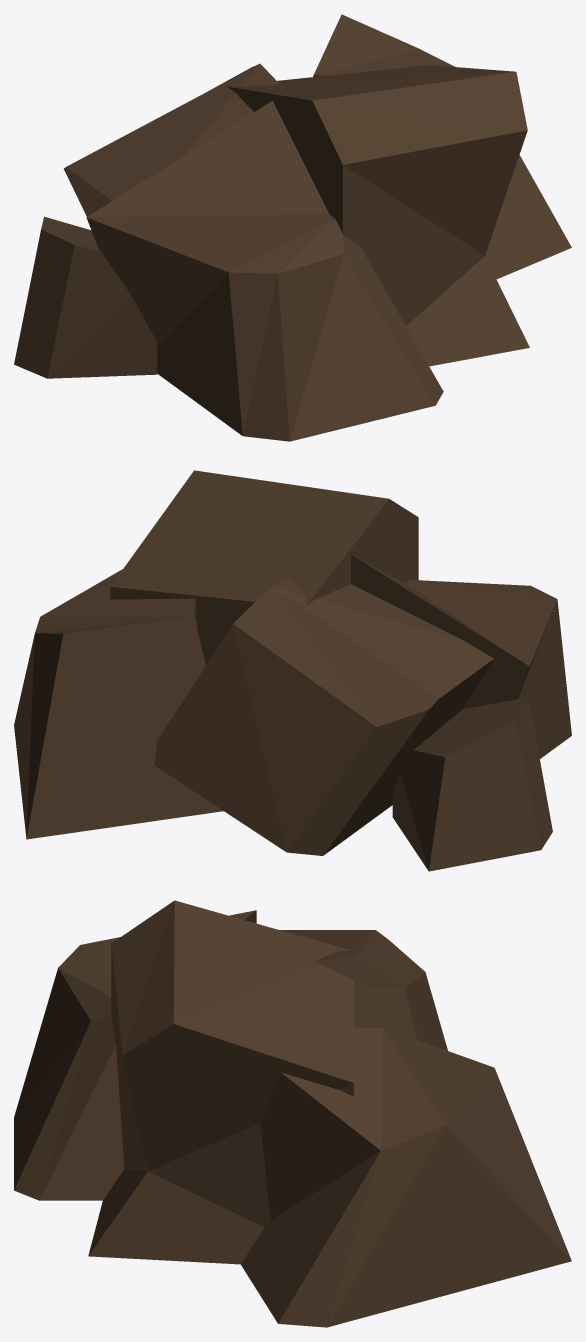
File: Rock_14_Dark_Brown.fbx
The picture shows the model from 3 angles, top to bottom: view 1: azimuth 30°, elevation 25°; view 2: azimuth 150°, elevation 25°; view 3: azimuth 270°, elevation 25°; orthographic projection. The views are drawn at different scales.
Parts seen in each view (by area): view 1: Rock_14_Dark_Brown; view 2: Rock_14_Dark_Brown; view 3: Rock_14_Dark_Brown.
Boxes of the visible parts, <box> form: Rock_14_Dark_Brown: <box>14,14,571,441</box>; Rock_14_Dark_Brown: <box>14,470,571,871</box>; Rock_14_Dark_Brown: <box>14,900,571,1327</box>.
Size of the model in its own units: 268 by 122 by 230.
